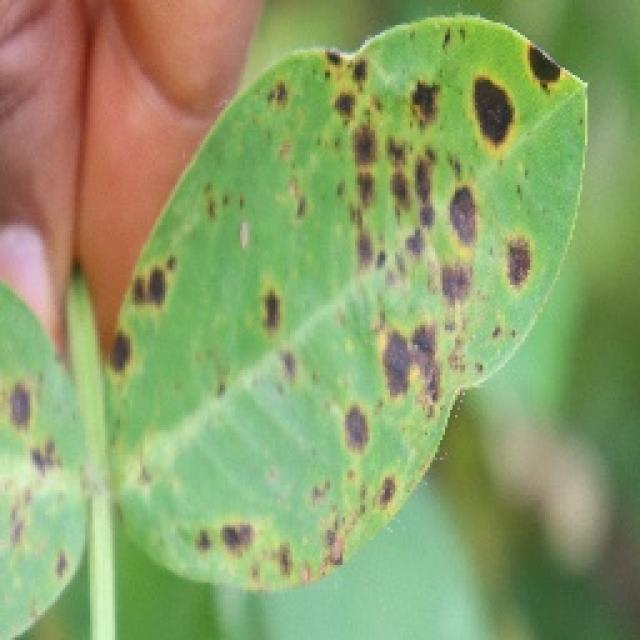Yellowish: (0, 8, 566, 640)
